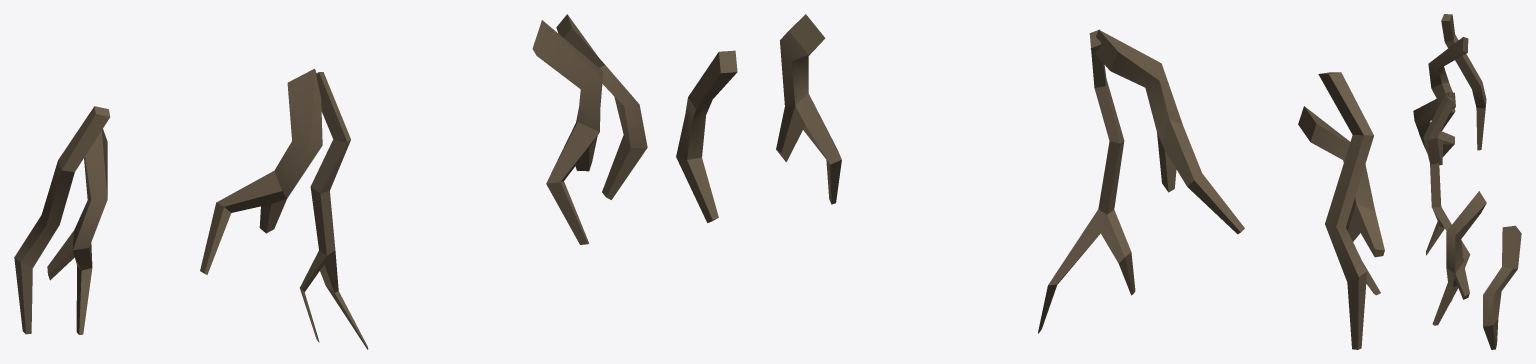
Rendered from synty-terrain-grassedge-roots-02.gltf.
3 views of the same model, side by side, from view 1: azimuth 30°, elevation 25°; view 2: azimuth 150°, elevation 25°; view 3: azimuth 270°, elevation 25° (orthographic). The views are drawn at different scales.
Visible parts, largest first — view 1: SM_Terrain_GrassEdge_Roots_02; view 2: SM_Terrain_GrassEdge_Roots_02; view 3: SM_Terrain_GrassEdge_Roots_02.
Part boxes in pixels (x1,y1,x2,y2): SM_Terrain_GrassEdge_Roots_02: [14, 14, 647, 349]; SM_Terrain_GrassEdge_Roots_02: [676, 14, 1384, 349]; SM_Terrain_GrassEdge_Roots_02: [1413, 14, 1521, 349].
Bounding box in the file's own units: 3.52 × 1.64 × 0.8024.
Materials: 1 (1 with a texture image).
